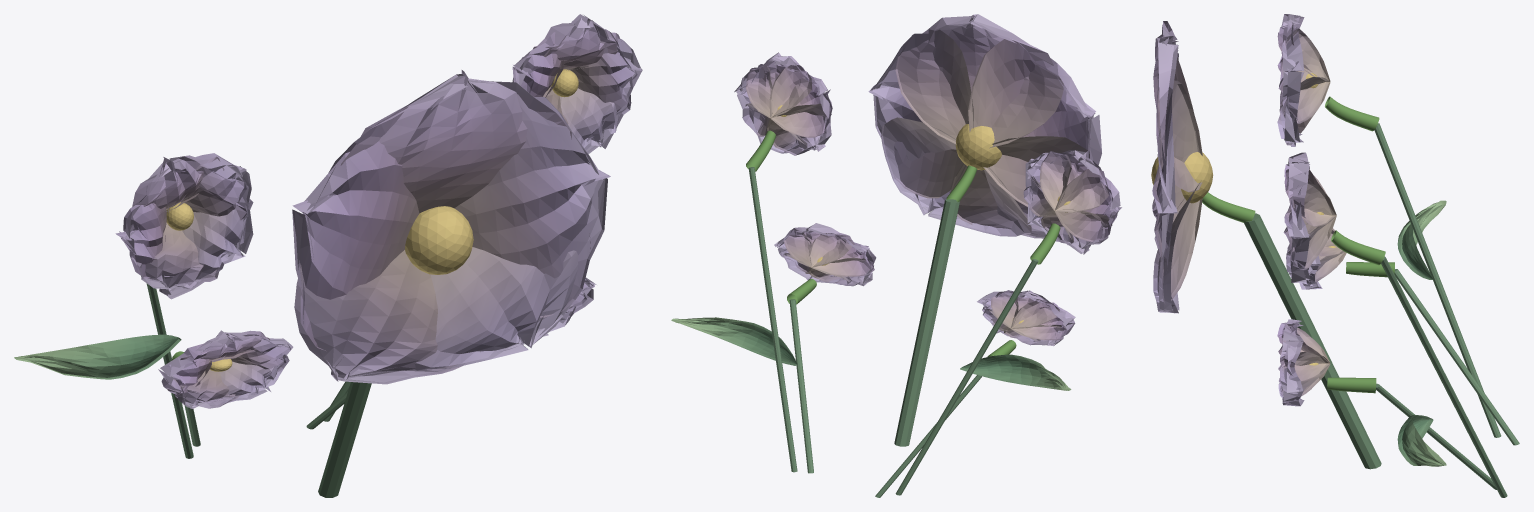
Rendered from viola.glb.
3 views of the same model, side by side, from view 1: azimuth 30°, elevation 25°; view 2: azimuth 150°, elevation 25°; view 3: azimuth 270°, elevation 25° (orthographic). The views are drawn at different scales.
Parts seen in each view (by area): view 1: PETALO_000, PETALO_001, PETALO_002, PETALO_003, PETALO_004, FOGLIA_RAMOSCELLO_0, CENTRO_0, PETALO_009, PETALO_008, PETALO_005, PETALO_010, PETALO_006 (+11 smaller); view 2: PETALO_001, PETALO_002, PETALO_000, PETALO_004, RAMO_0, PETALO_003, PETALO_012, PETALO_006, PETALO_007, FOGLIA_RAMOSCELLO_1, FOGLIA_RAMOSCELLO_0, RAMO_2 (+18 smaller); view 3: PETALO_000, RAMO_0, PETALO_005, PETALO_001, RAMO_1, PETALO_010, RAMO_2, FOGLIA_RAMOSCELLO_1, PETALO_011, RAMO_3, PETALO_004, PETALO_021 (+14 smaller).
Part boxes in pixels (x1,y1,x2,y2): PETALO_000: (454, 94, 610, 317); PETALO_001: (340, 70, 571, 213); PETALO_002: (292, 106, 419, 350); PETALO_003: (294, 250, 480, 384); PETALO_004: (415, 233, 590, 371); FOGLIA_RAMOSCELLO_0: (14, 334, 181, 379); CENTRO_0: (405, 206, 473, 274); PETALO_009: (182, 199, 253, 279); PETALO_008: (131, 222, 219, 299); PETALO_005: (181, 153, 251, 220); PETALO_010: (570, 29, 642, 112); PETALO_006: (132, 155, 224, 212); PETALO_001: (895, 14, 1063, 148); PETALO_002: (968, 39, 1101, 206); PETALO_000: (868, 29, 973, 198); PETALO_004: (881, 117, 1031, 236); RAMO_0: (894, 199, 959, 446); PETALO_003: (950, 136, 1089, 238); PETALO_012: (769, 65, 832, 137); PETALO_006: (1040, 150, 1108, 212); PETALO_007: (1055, 169, 1121, 241); FOGLIA_RAMOSCELLO_1: (671, 317, 797, 365); FOGLIA_RAMOSCELLO_0: (960, 354, 1071, 390); RAMO_2: (748, 167, 797, 472); PETALO_000: (1152, 80, 1202, 303); RAMO_0: (1244, 213, 1381, 469); PETALO_005: (1278, 29, 1329, 123); PETALO_001: (1153, 21, 1202, 192); RAMO_1: (1374, 123, 1501, 437); PETALO_010: (1284, 181, 1335, 269); RAMO_2: (1381, 256, 1507, 497); FOGLIA_RAMOSCELLO_1: (1397, 415, 1446, 466); PETALO_011: (1285, 152, 1336, 226); RAMO_3: (1394, 269, 1519, 445); PETALO_004: (1153, 182, 1200, 313); PETALO_021: (1278, 324, 1329, 381).
Size of the model in its own units: 1.77 by 1.55 by 1.18.
